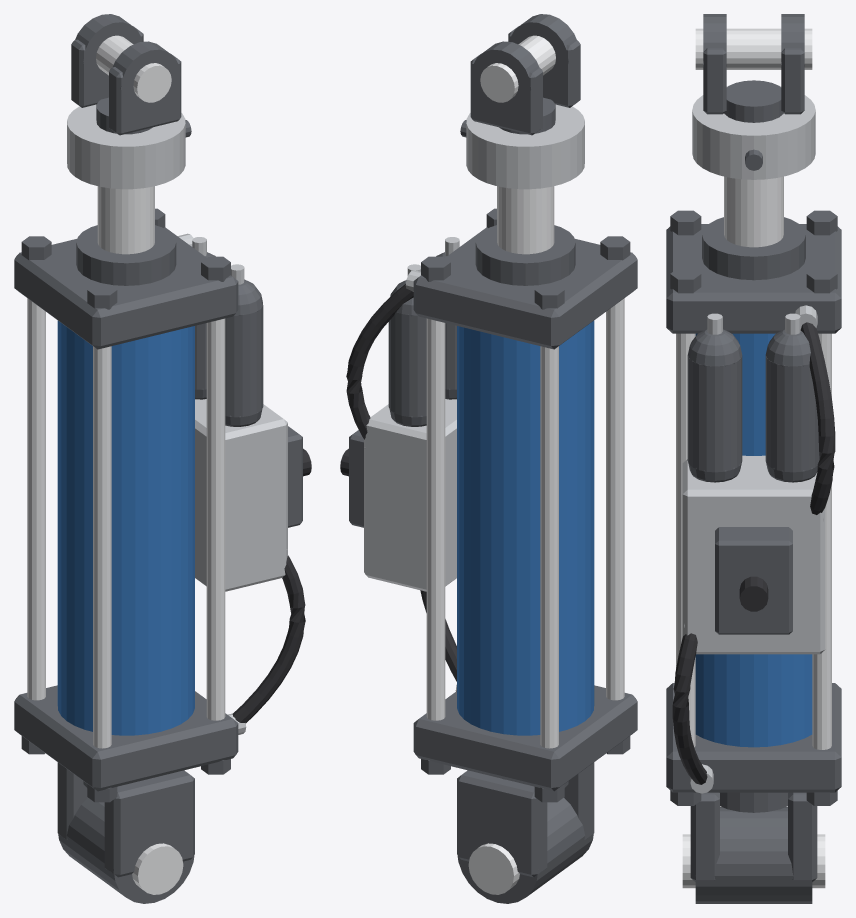
File: hydraulic_actuator.glb
3 renders of one model, left to right at view 1: azimuth 30°, elevation 25°; view 2: azimuth 150°, elevation 25°; view 3: azimuth 270°, elevation 25°, orthographic. The views are drawn at different scales.
Parts seen in each view (by area): view 1: barrel, piston_rod; view 2: barrel, piston_rod; view 3: barrel, piston_rod.
Boxes of the visible parts, bbox=[...] form: barrel: bbox=[14, 208, 311, 903]; piston_rod: bbox=[67, 14, 191, 254]; barrel: bbox=[340, 208, 637, 903]; piston_rod: bbox=[460, 14, 584, 254]; barrel: bbox=[666, 210, 841, 903]; piston_rod: bbox=[692, 14, 815, 247].
Size of the model in its own units: 0.465 by 1.5 by 0.27.
